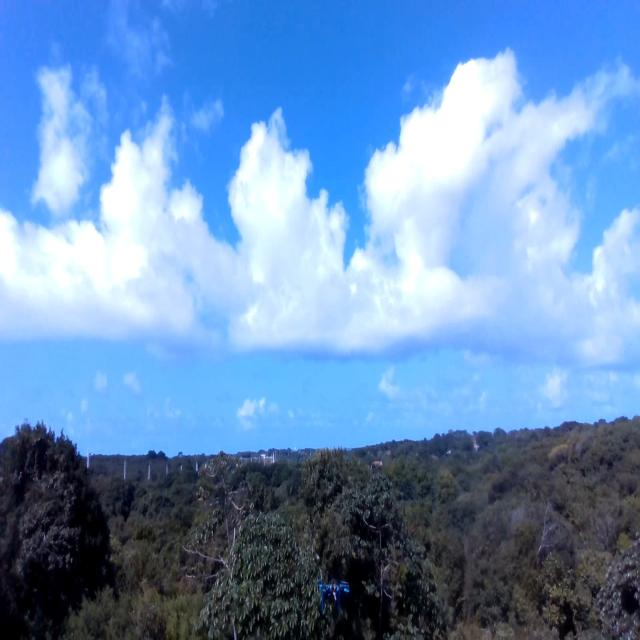-uav-: (302, 572, 376, 634)
